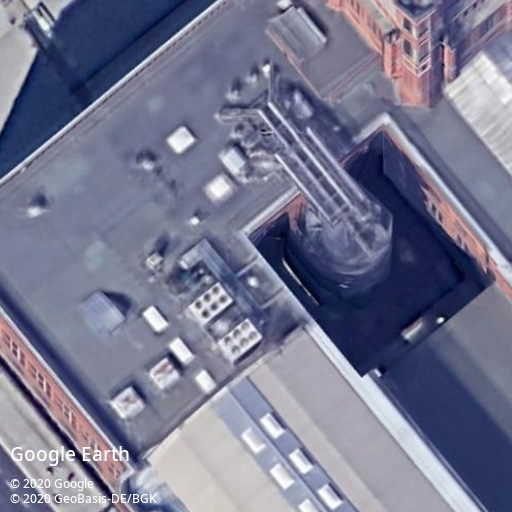Chiller: (217, 317, 263, 366), (188, 282, 234, 328)
